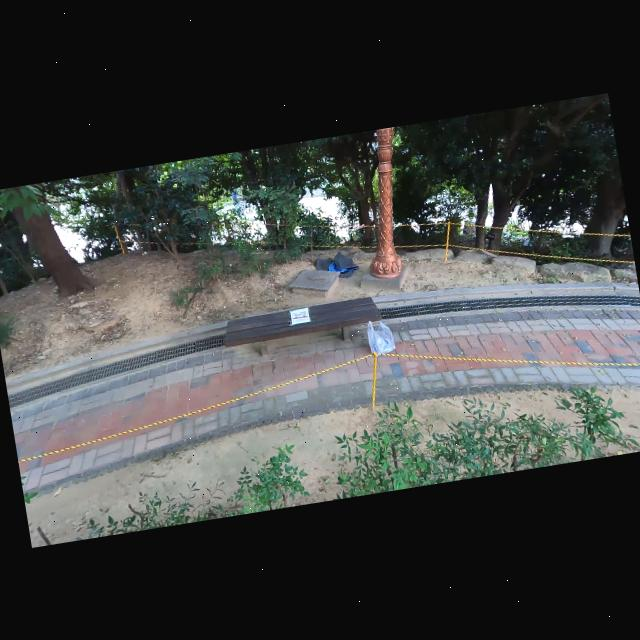trash: (363, 316, 400, 359)
